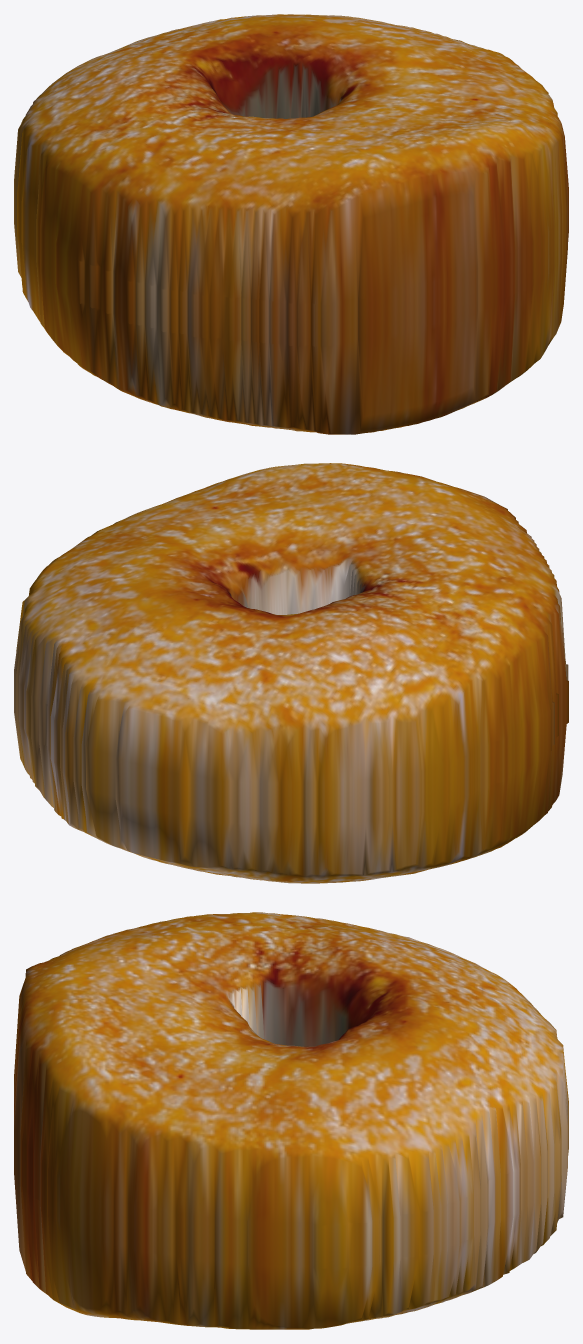
The model's file is donut_1_2.obj.
The picture shows the model from 3 angles, top to bottom: view 1: azimuth 30°, elevation 25°; view 2: azimuth 150°, elevation 25°; view 3: azimuth 270°, elevation 25°; orthographic projection. The views are drawn at different scales.
Visible parts, largest first — view 1: Grid; view 2: Grid; view 3: Grid.
Boxes of the visible parts, bbox=[...] form: Grid: bbox=[14, 14, 568, 434]; Grid: bbox=[14, 463, 568, 883]; Grid: bbox=[14, 912, 568, 1329].
Size of the model in its own units: 1.66 by 0.9 by 1.64.
